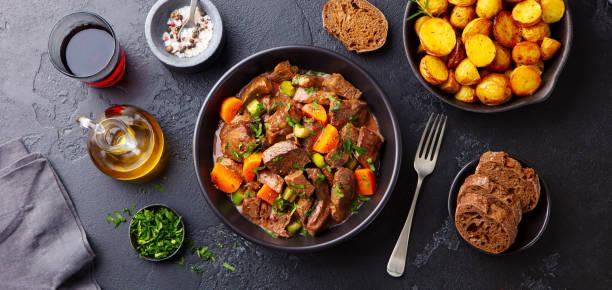Braised Crucian Carp: (192, 44, 397, 253), (402, 0, 571, 113)
